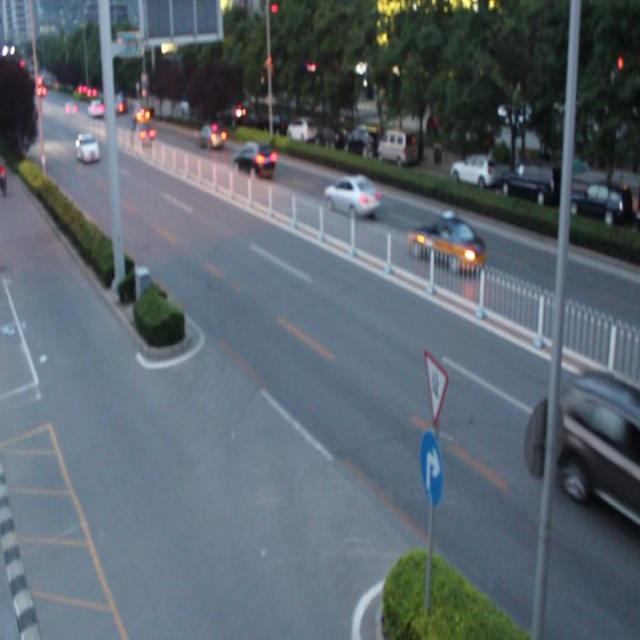car: (551, 383, 640, 514), (411, 217, 483, 274), (325, 176, 378, 220), (232, 141, 278, 183), (197, 124, 228, 153)
